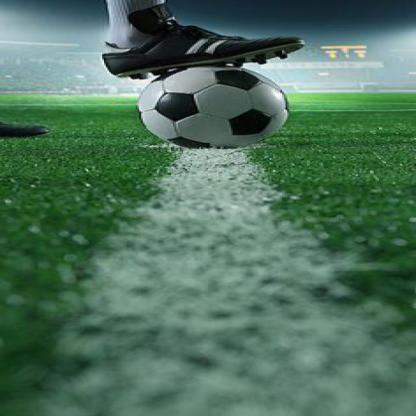ball: (133, 60, 292, 152)
